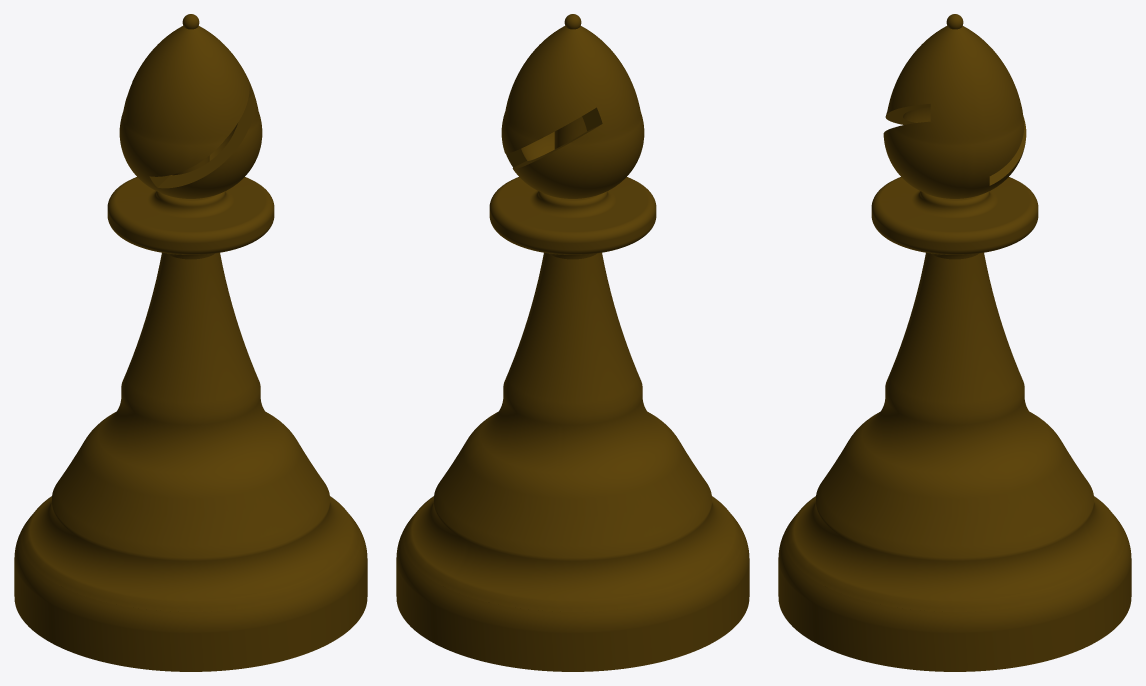
File: newBishopBlack.glb
3 views of the same model, side by side, from view 1: azimuth 30°, elevation 25°; view 2: azimuth 150°, elevation 25°; view 3: azimuth 270°, elevation 25° (orthographic).
Parts seen in each view (by area): view 1: Object_2; view 2: Object_2; view 3: Object_2.
Boxes of the visible parts, left/top/right/bottom form: Object_2: left=14, top=14, right=367, bottom=671; Object_2: left=396, top=14, right=749, bottom=671; Object_2: left=778, top=14, right=1131, bottom=671.
Bounding box in the file's own units: 101 × 185 × 101.
